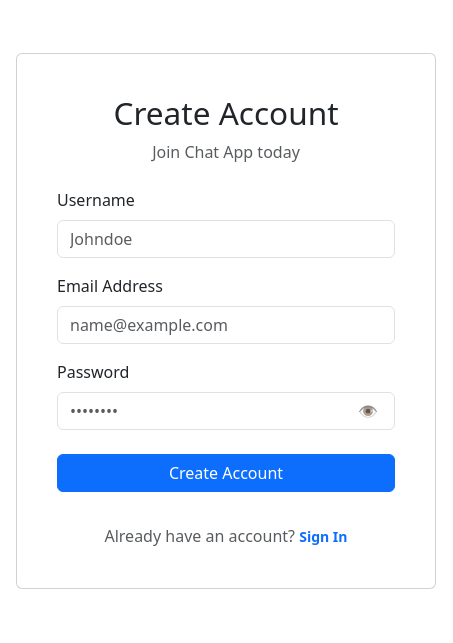
Test: Register Component › displays API error message on registration failure
In the field labelled "Username": {"x": 226, "y": 239} [57,220,395,258], type "existing_user"
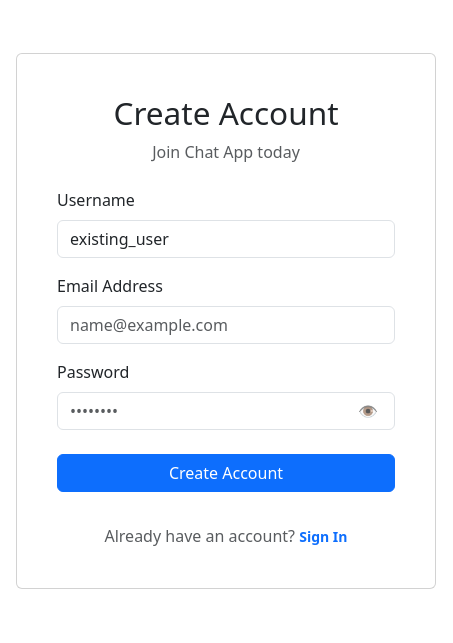
In the field labelled "Email Address": {"x": 226, "y": 325} [57,306,395,344], type "existing@example.com"
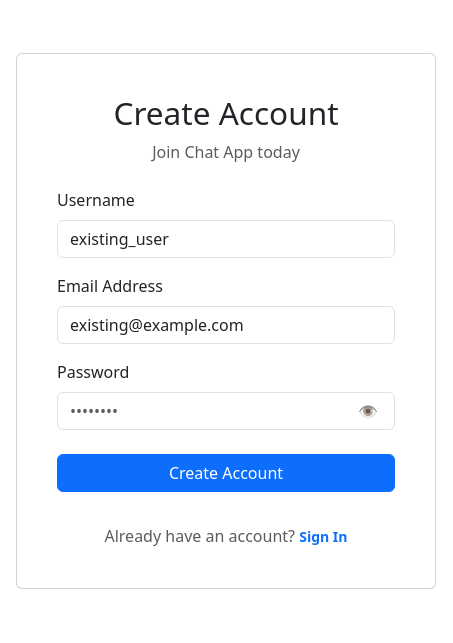
In the password field labelled "Password": {"x": 226, "y": 411} [57,392,395,430], type "password123"
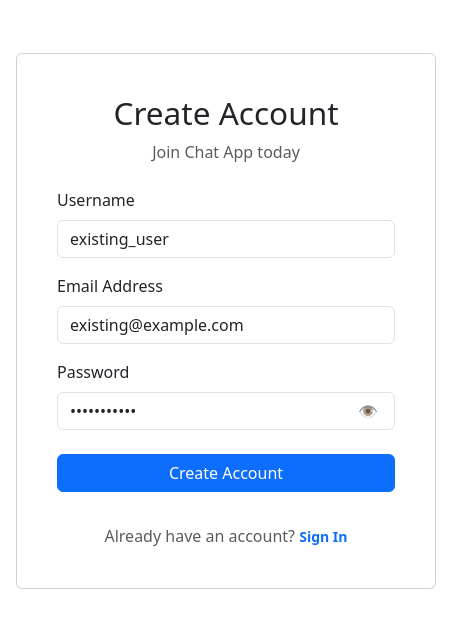
Click the button "Create Account": {"x": 226, "y": 473} [57,454,395,492]
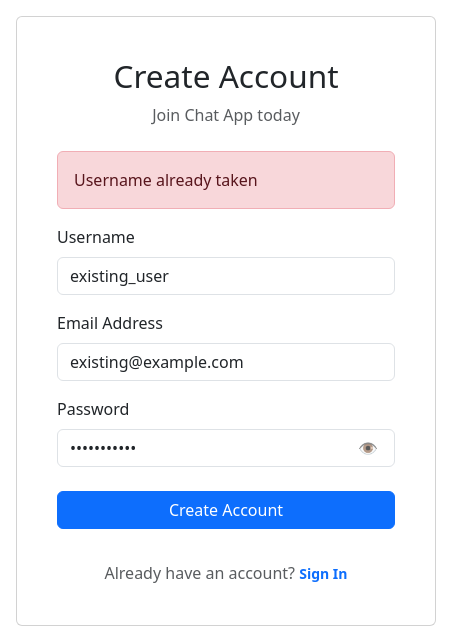
Expected: the text "Username already taken" is shown, [57,151,395,209]
